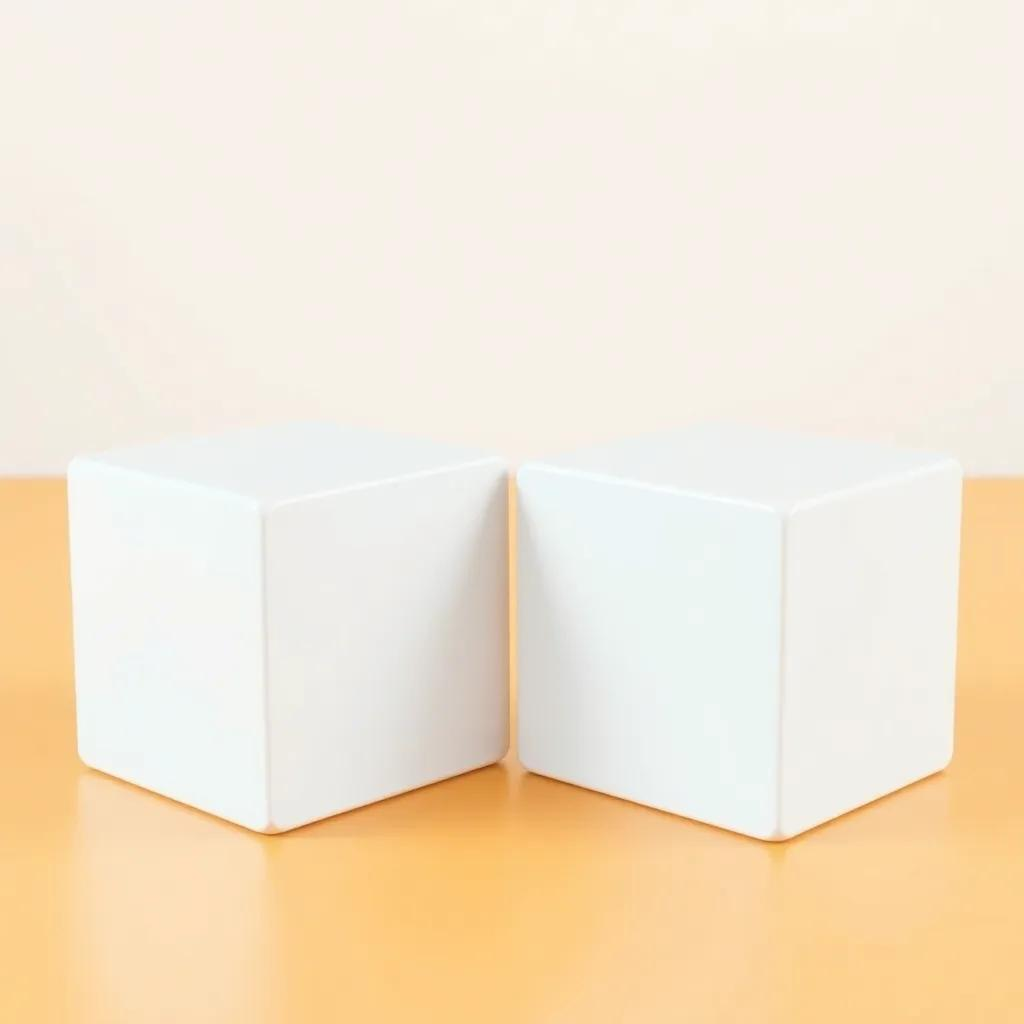cube: (514, 417, 963, 843), (65, 416, 510, 835)
